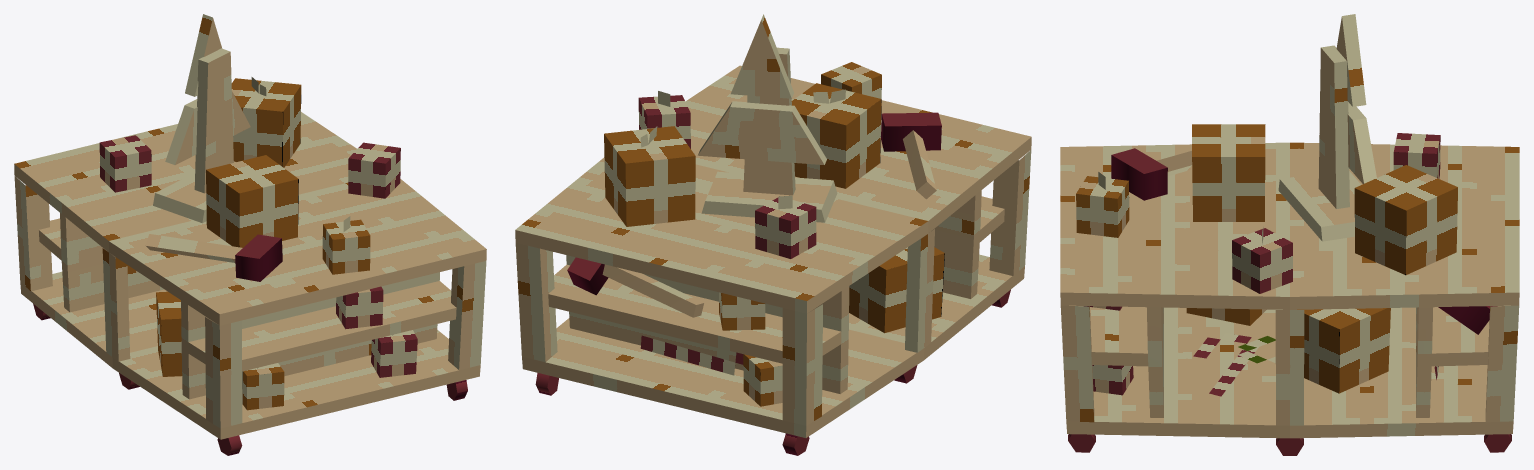
Rendered from SM_StorageUnit.glb.
3 views of the same model, side by side, from view 1: azimuth 30°, elevation 25°; view 2: azimuth 150°, elevation 25°; view 3: azimuth 270°, elevation 25° (orthographic). The views are drawn at different scales.
Visible parts, largest first — view 1: SM_StorageUnit; view 2: SM_StorageUnit; view 3: SM_StorageUnit.
Boxes of the visible parts, bbox=[...] form: SM_StorageUnit: bbox=[14, 14, 486, 455]; SM_StorageUnit: bbox=[515, 14, 1031, 455]; SM_StorageUnit: bbox=[1060, 14, 1519, 455].
Size of the model in its own units: 1.58 by 1.74 by 1.99.
Materials: 2 (2 with a texture image).
